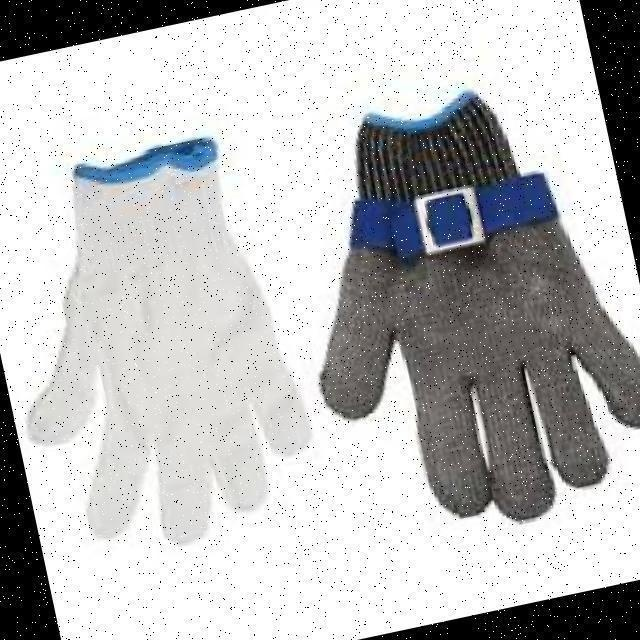Guantes: (348, 122, 638, 514), (76, 165, 311, 530)
